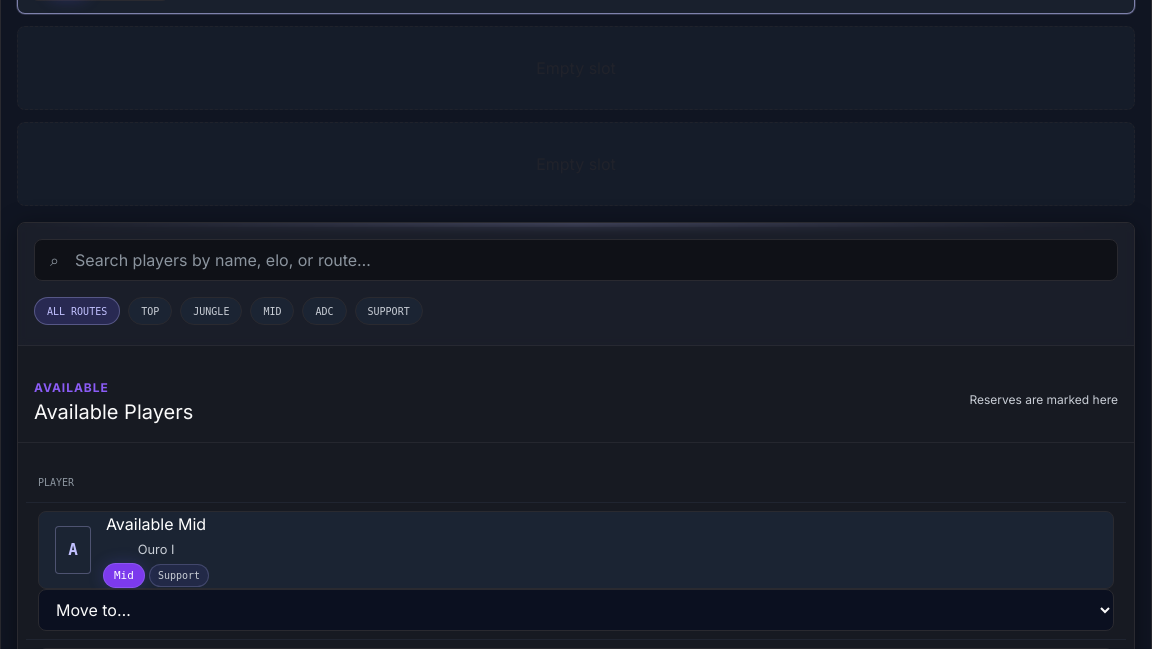
Test: DraftVisualBoard › localizes route filter labels in English without changing their filtering values
(page scrolled)
Click the button "SUPPORT".
click(389, 311)  # box [354,297,423,325]
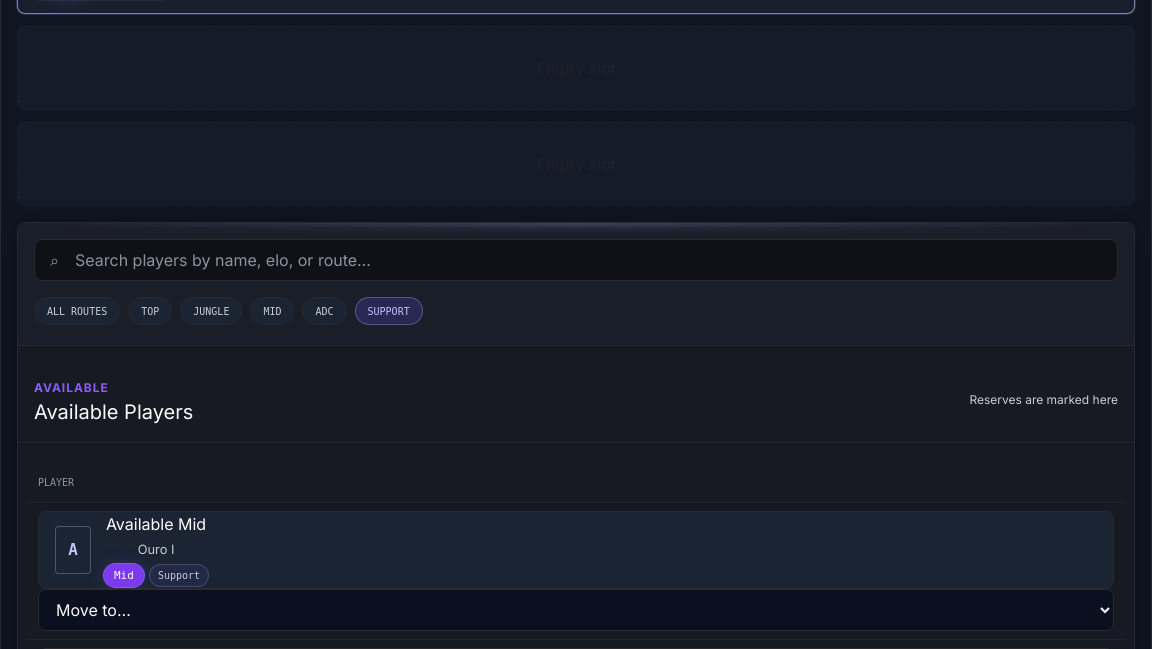
Result: the button "SUPPORT" has class "is-active" at [354,297,423,325]
Result: the button "SUPPORT" is pressed at [354,297,423,325]
Result: the button "ALL ROUTES" is not pressed at [34,297,120,325]
Click the button "ADC".
click(325, 311)  # box [302,297,347,325]
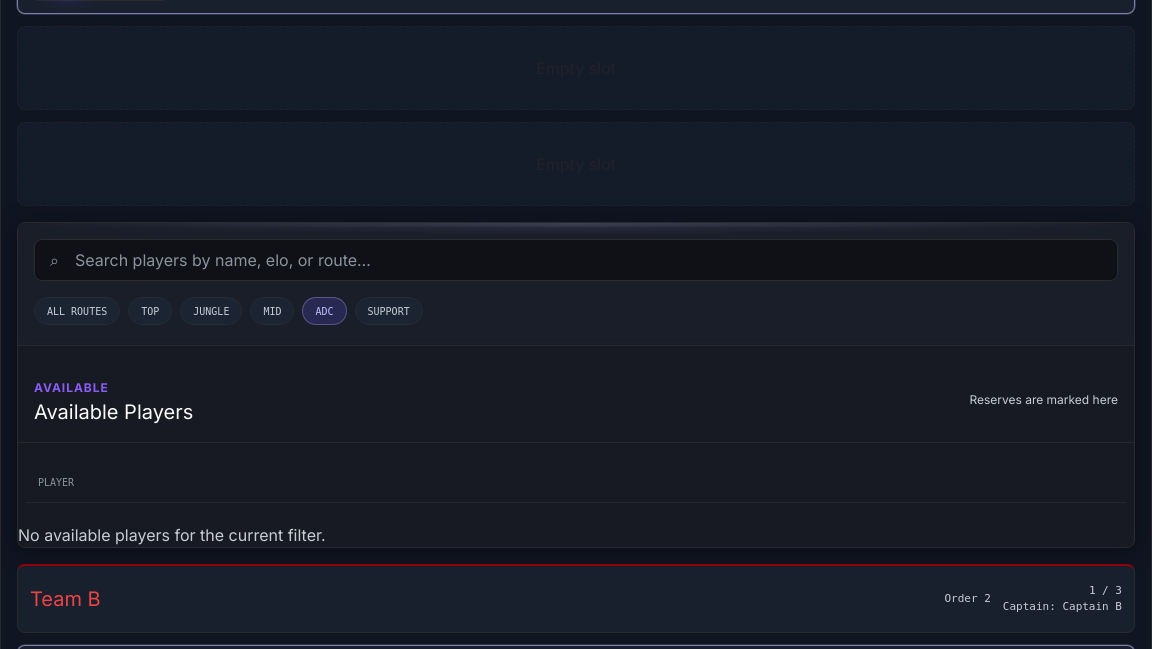
Result: the text "No available players for the current filter." is shown at [18,525,326,545]
